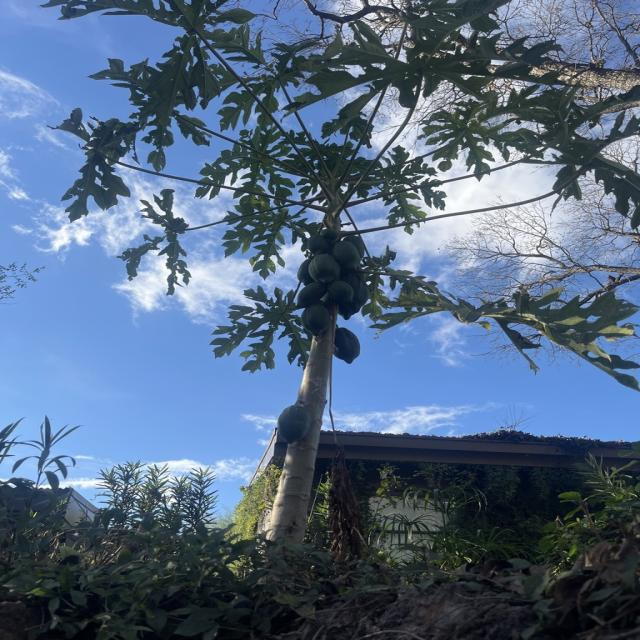Papaya-Tree: (76, 23, 605, 546)
